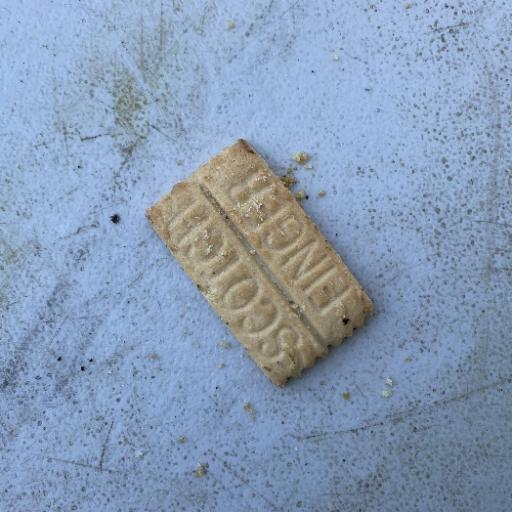Waste: (143, 137, 375, 389)
